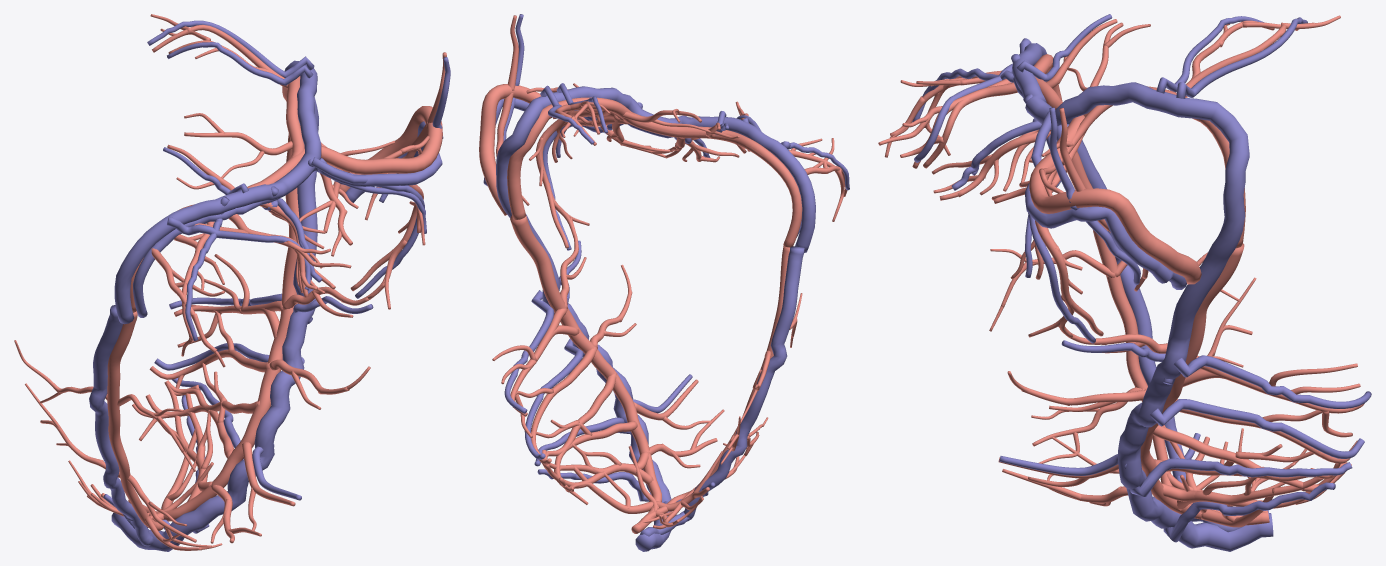
The model's file is vessels_40.glb.
3 renders of one model, left to right at view 1: azimuth 30°, elevation 25°; view 2: azimuth 150°, elevation 25°; view 3: azimuth 270°, elevation 25°, orthographic. The views are drawn at different scales.
Visible parts, largest first — view 1: Renderer Node; view 2: Renderer Node; view 3: Renderer Node.
Boxes of the visible parts, <box> form: Renderer Node: <box>14,14,450,551</box>; Renderer Node: <box>479,14,849,551</box>; Renderer Node: <box>878,14,1371,551</box>.
Size of the model in its own units: 90.12 by 116 by 90.46.
